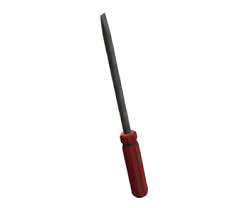screwdriver: (95, 9, 156, 201)
